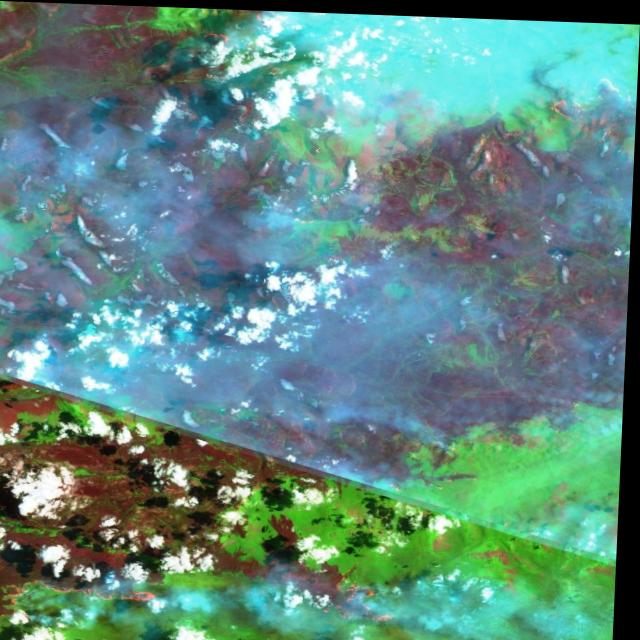fire: (293, 560, 415, 632), (1, 574, 170, 617), (530, 84, 604, 127), (195, 15, 247, 76)
